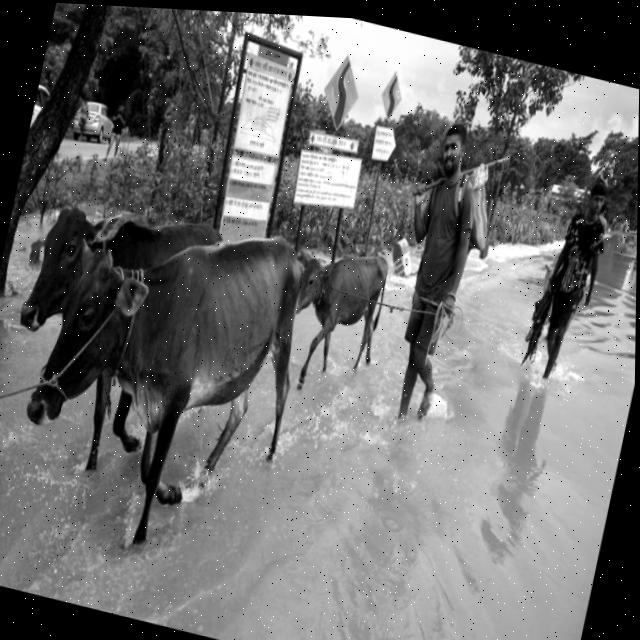civilian: (352, 93, 513, 452), (499, 150, 638, 415), (91, 90, 142, 165)
cow: (0, 173, 340, 593), (0, 156, 238, 484), (256, 213, 401, 411)
